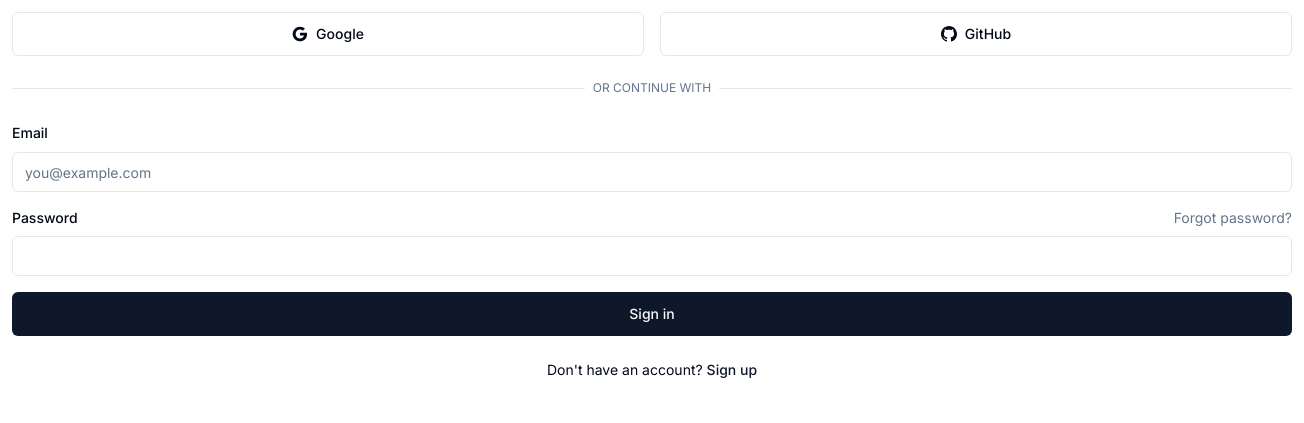
LoginForm › Inline Validation › shows inline error for empty password on blur
The image size is (1304, 423).
Click the password field with test id "password".
click(652, 256)  # box [12,236,1292,276]
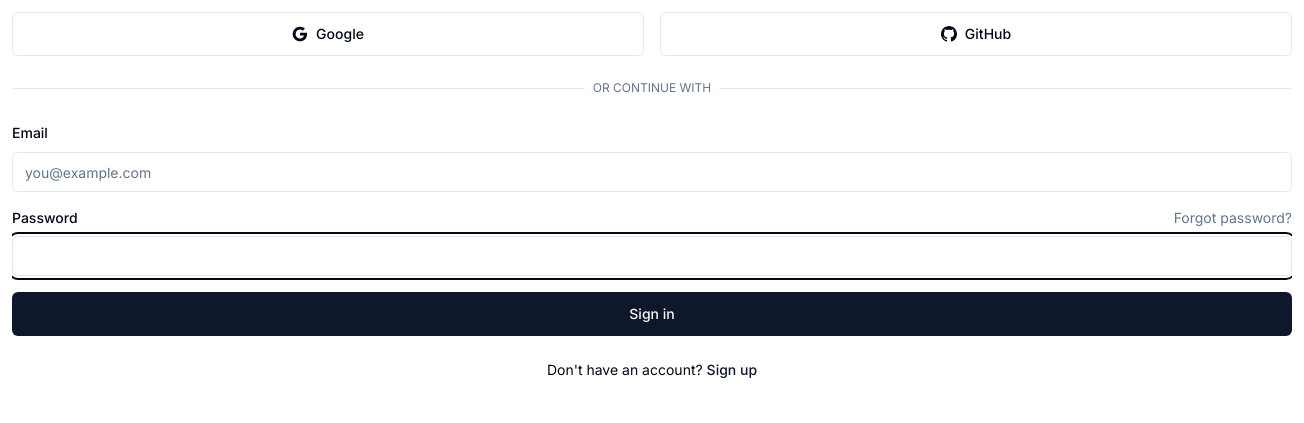
Press Tab
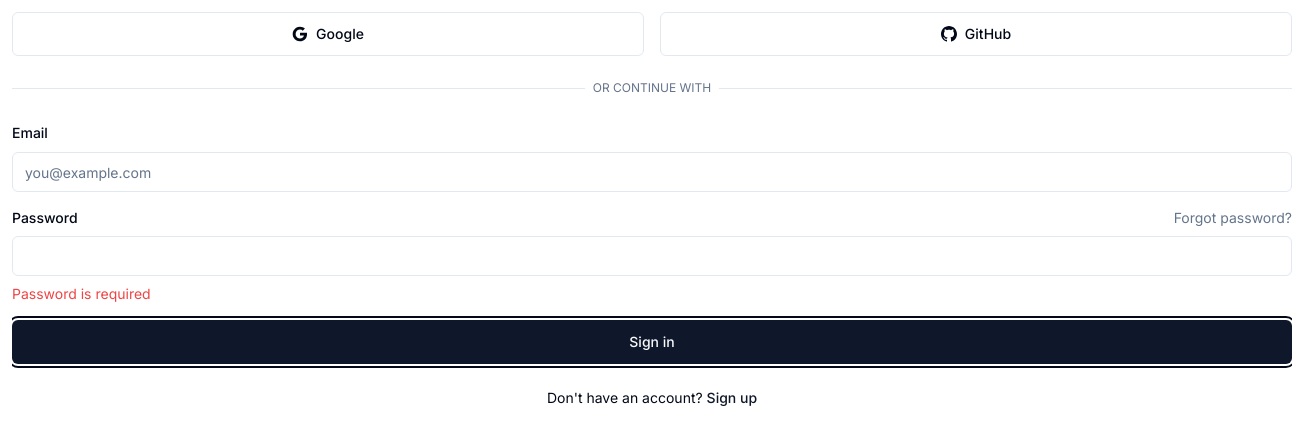
Now the text "Password is required" is shown, box [12,285,151,302]
